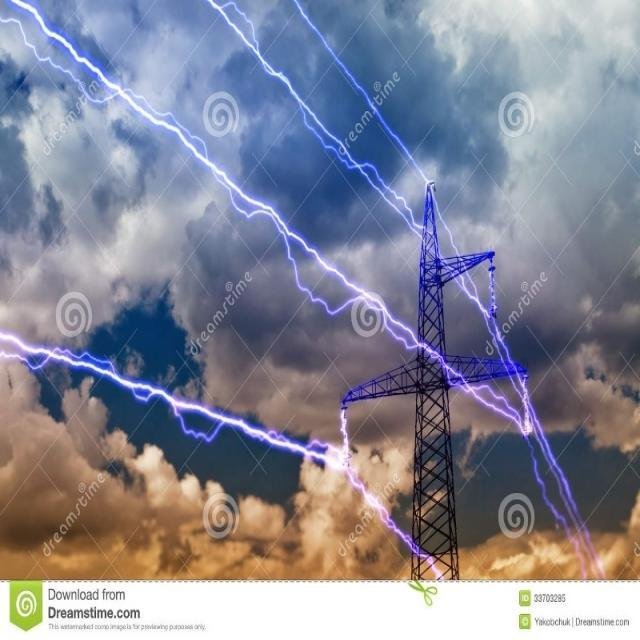non-critical vegetation: (344, 185, 515, 577)
